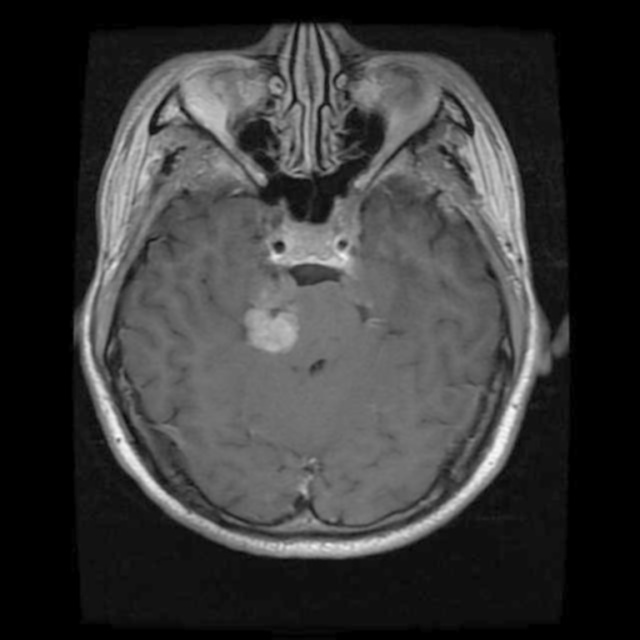meningioma tumor: (236, 294, 320, 372)
